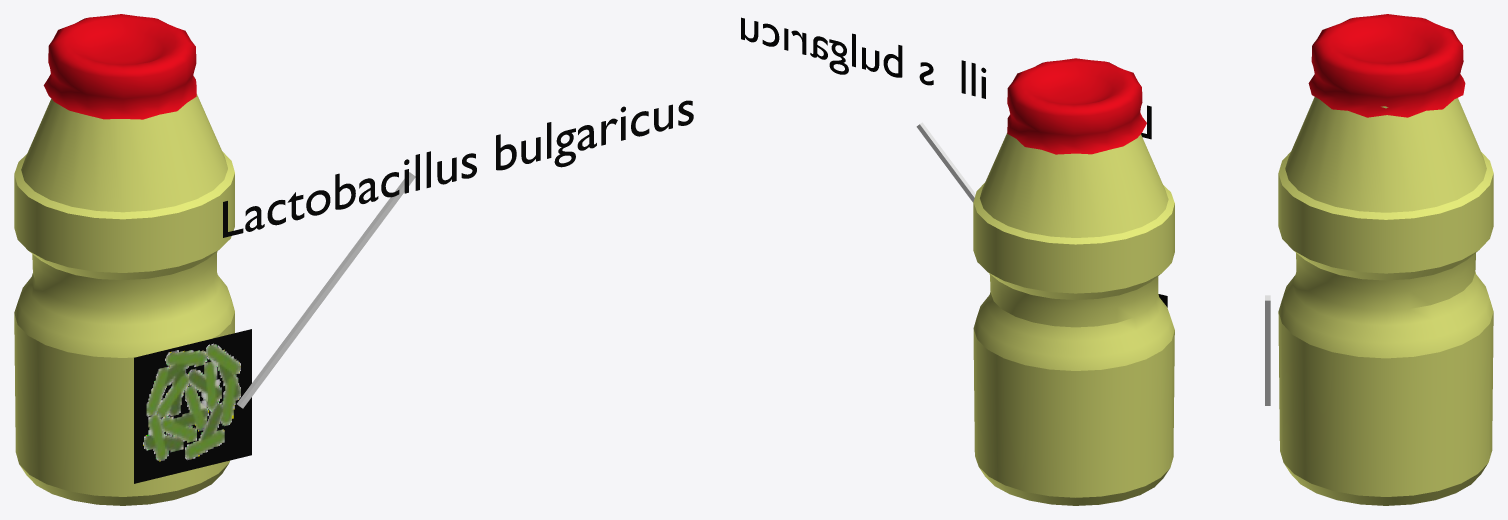
File: yakult.gltf
The picture shows the model from 3 angles, left to right: view 1: azimuth 30°, elevation 25°; view 2: azimuth 150°, elevation 25°; view 3: azimuth 270°, elevation 25°; orthographic projection. The views are drawn at different scales.
Parts seen in each view (by area): view 1: Yakult, Plane, Yakult.001, Text, Cube; view 2: Yakult, Yakult.001, Text, Cube; view 3: Yakult, Yakult.001, Cube.
Part boxes in pixels (left/top/right/bottom): Yakult: left=14, top=94, right=234, bottom=505; Plane: left=134, top=329, right=251, bottom=483; Yakult.001: left=43, top=14, right=196, bottom=119; Text: left=223, top=100, right=693, bottom=237; Cube: left=237, top=172, right=415, bottom=408; Yakult: left=973, top=133, right=1174, bottom=505; Yakult.001: left=1007, top=58, right=1146, bottom=154; Text: left=741, top=17, right=1151, bottom=139; Cube: left=916, top=122, right=975, bottom=202; Yakult: left=1278, top=97, right=1493, bottom=505; Yakult.001: left=1308, top=14, right=1465, bottom=117; Cube: left=1265, top=295, right=1270, bottom=405.
Size of the model in its own units: 2.29 by 1.61 by 1.
4 materials, 1 textured.
